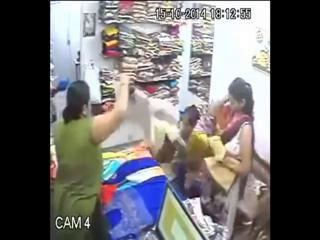Normal: (50, 60, 137, 240), (172, 78, 255, 234)
